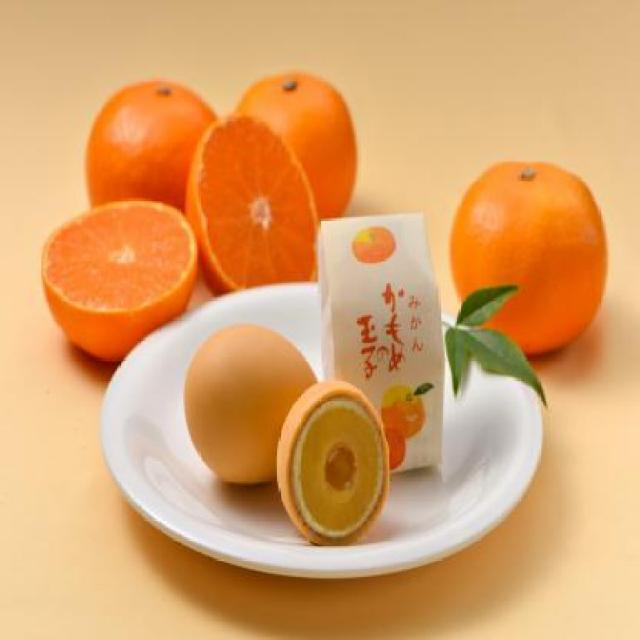Jeruk Sudah Matang: (450, 160, 613, 358), (85, 76, 222, 258), (225, 74, 358, 237)
